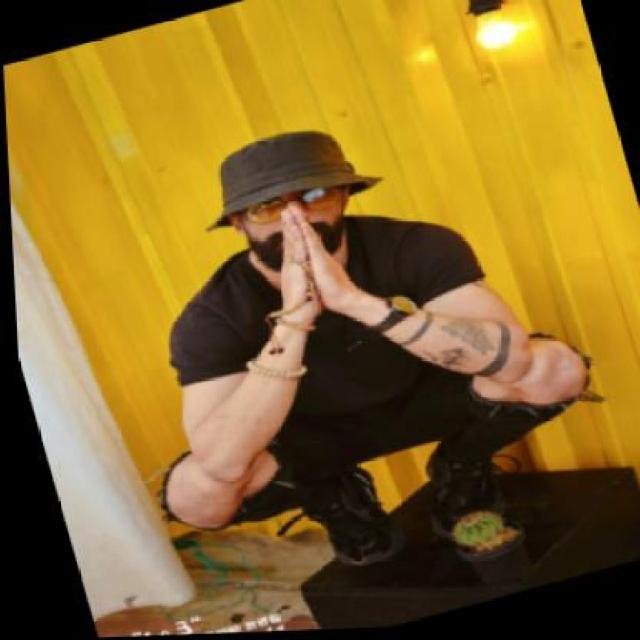hat: (177, 104, 397, 238)
